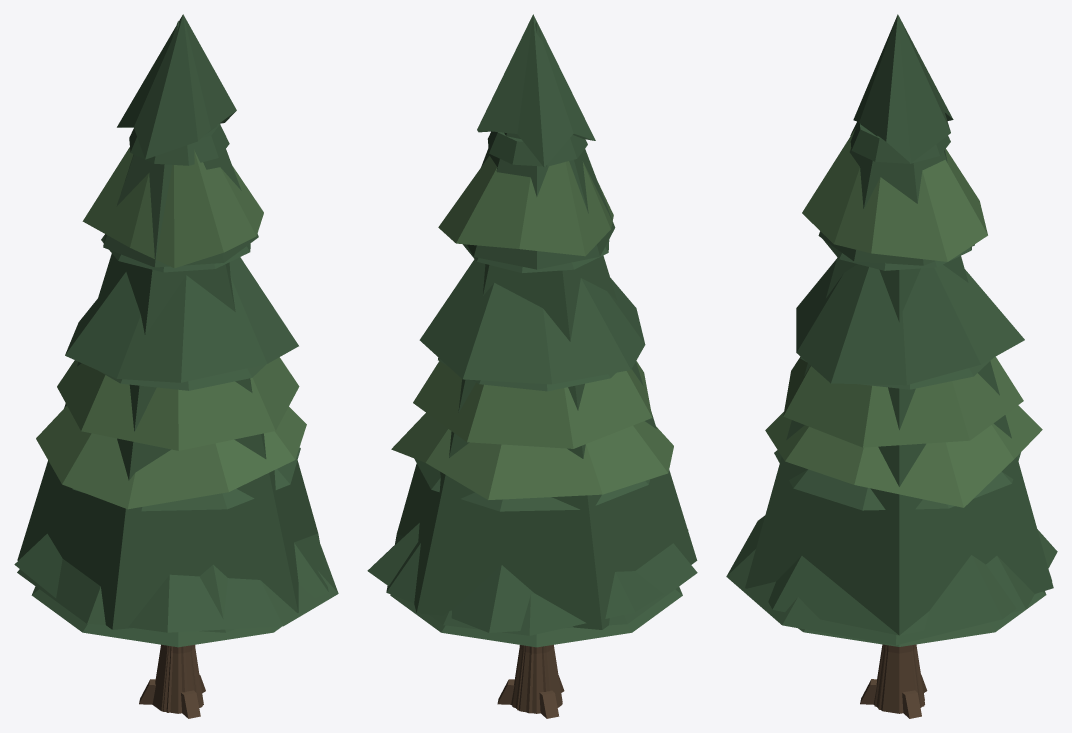
The model's file is neutral_tree_pine.glb.
3 views of the same model, side by side, from view 1: azimuth 30°, elevation 25°; view 2: azimuth 150°, elevation 25°; view 3: azimuth 270°, elevation 25° (orthographic).
Visible parts, largest first — view 1: foliage (×3), trunk (×2); view 2: foliage (×3), trunk (×2); view 3: foliage (×3), trunk.
Boxes of the visible parts, x1,y1,x2,y2 form: foliage (×3): (14, 14, 338, 647); trunk (×2): (139, 644, 205, 718); foliage (×3): (367, 14, 697, 647); trunk (×2): (497, 645, 564, 718); foliage (×3): (726, 14, 1057, 646); trunk: (860, 644, 927, 718).
Bounding box in the file's own units: 5.05 × 12.21 × 5.31.
